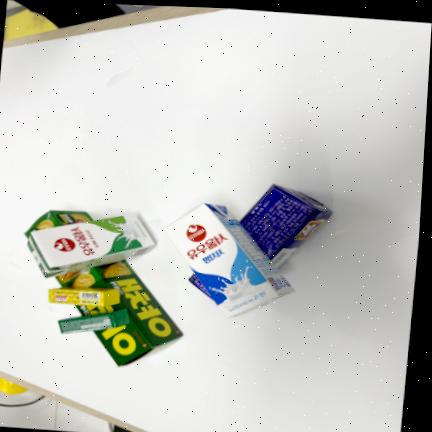cracker_ace: (239, 184, 332, 265)
cracker_vege: (52, 261, 182, 366), (24, 211, 95, 239)
gum_green: (58, 309, 130, 334)
gum_yellow: (48, 287, 119, 308)
milk_blue: (164, 204, 295, 318)
milk_green: (28, 214, 154, 277)
